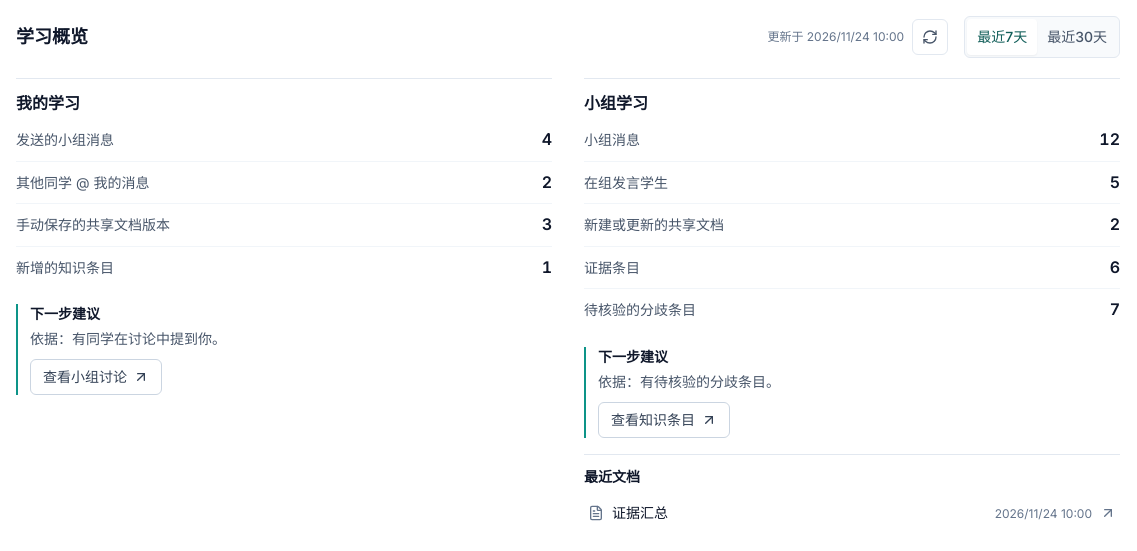
Test: LearningDashboard › clears old group records immediately and ignores an aborted group request failure
Later steps or results of the test are not shown.
Check: the button "证据汇总 2026/11/24 10:00" is shown, box [584,491,1120,535]
Click the button "最近30天": [1077, 37] box [1037,19,1117,55]
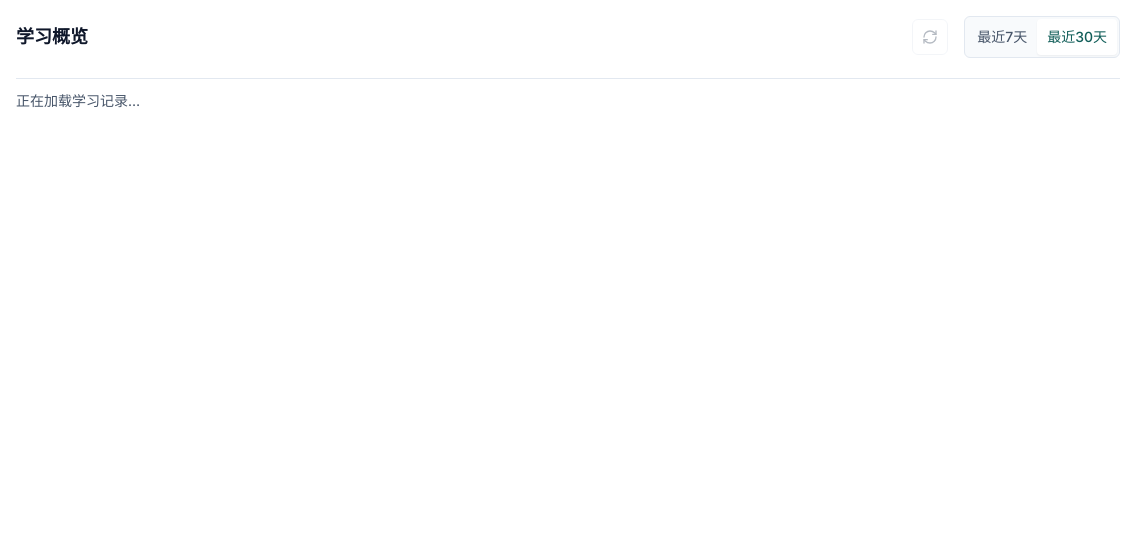
Check: the button "证据汇总" is gone
